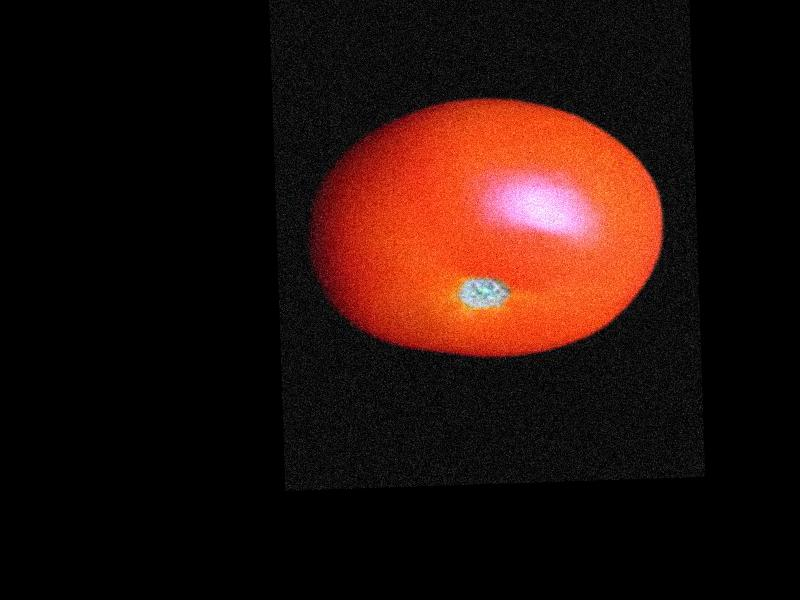Tomato: (304, 93, 668, 362)
